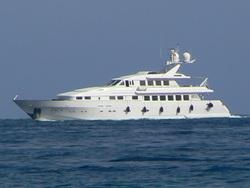yacht: (12, 46, 240, 121)
